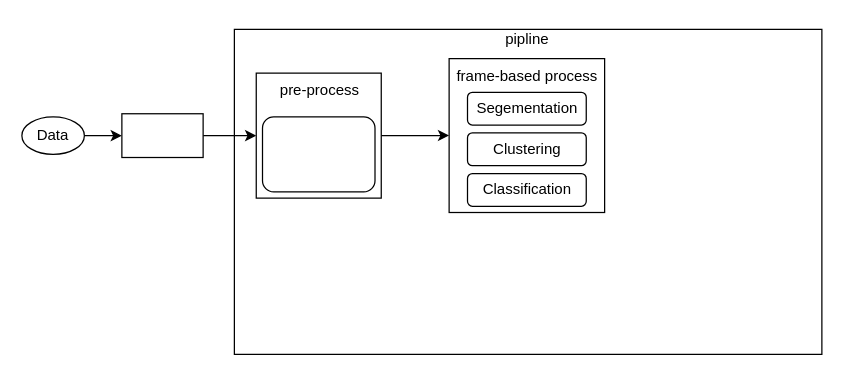
This 844x378 diagram has some shape labels left out. Here are the shapes that lost their labels. From the top down, the box of each, then its label:
(121, 112, 203, 158): Data Analysis
(261, 116, 375, 192): Time Syschronization Geometry Syschronization
